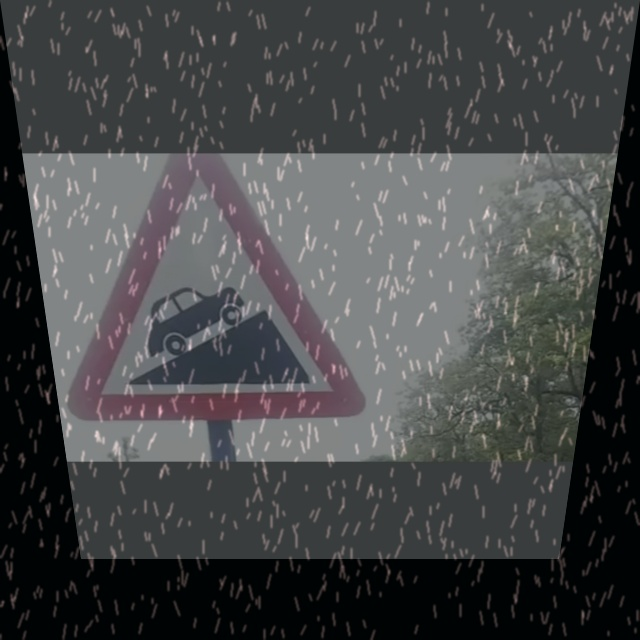Steep_Ascent: (70, 192, 349, 419)
